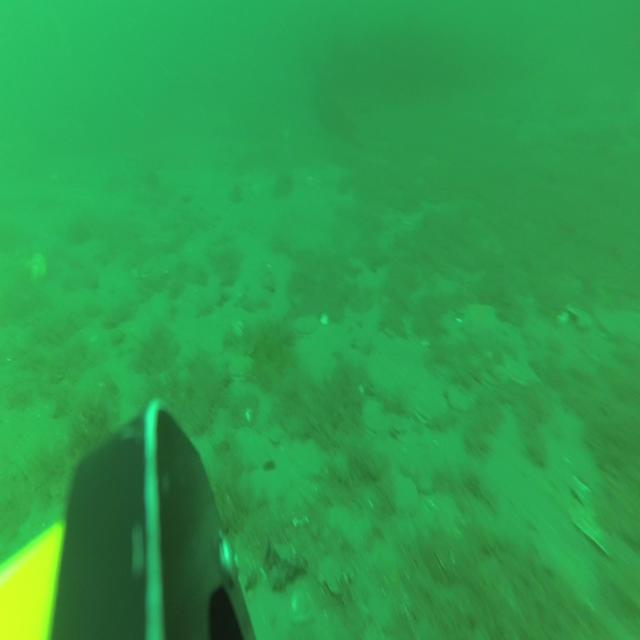scallop: (391, 474, 421, 518), (412, 390, 449, 424), (362, 400, 388, 436), (227, 354, 254, 381), (28, 252, 48, 286), (511, 364, 539, 388), (480, 367, 506, 392), (451, 386, 474, 414), (294, 315, 318, 339), (392, 420, 408, 440), (268, 427, 284, 446)
starfish: (461, 302, 496, 338)
